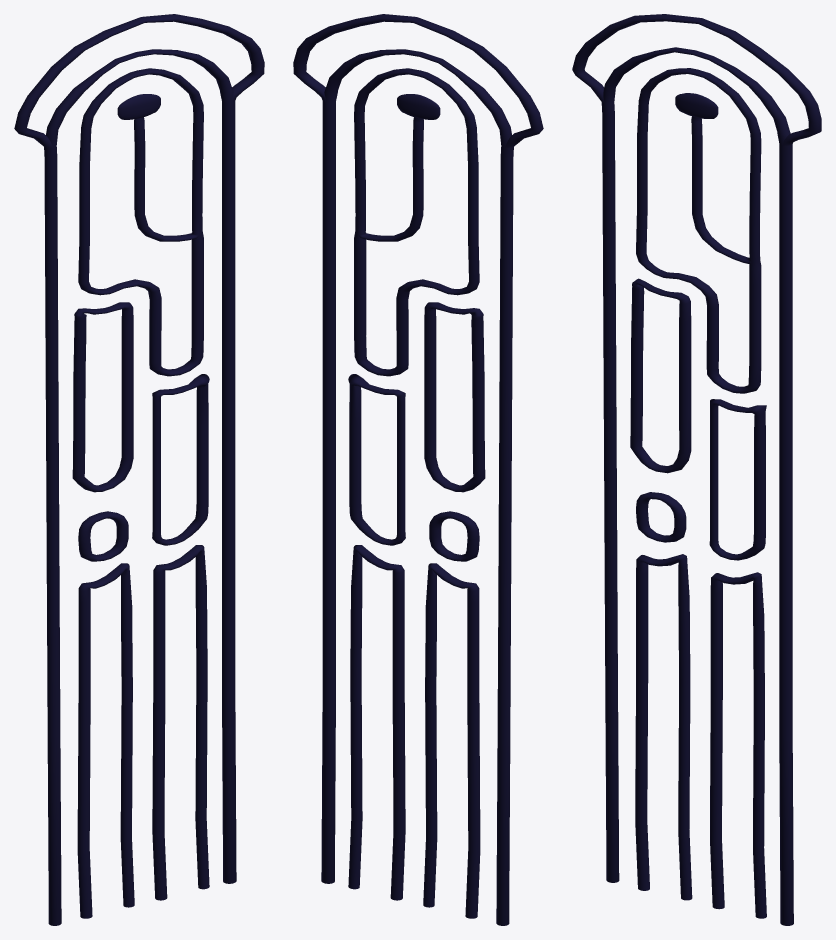
The model's file is Puerta_reja_derecha.obj.
3 views of the same model, side by side, from view 1: azimuth 30°, elevation 25°; view 2: azimuth 150°, elevation 25°; view 3: azimuth 330°, elevation 25° (orthographic).
Visible parts, largest first — view 1: Object_49_hk_banco_lampara; view 2: Object_49_hk_banco_lampara; view 3: Object_49_hk_banco_lampara.
Part boxes in pixels (bbox=[...]): Object_49_hk_banco_lampara: bbox=[14, 14, 264, 925]; Object_49_hk_banco_lampara: bbox=[293, 14, 543, 925]; Object_49_hk_banco_lampara: bbox=[572, 14, 821, 925].
Size of the model in its own units: 4.45 by 15.14 by 0.3.
